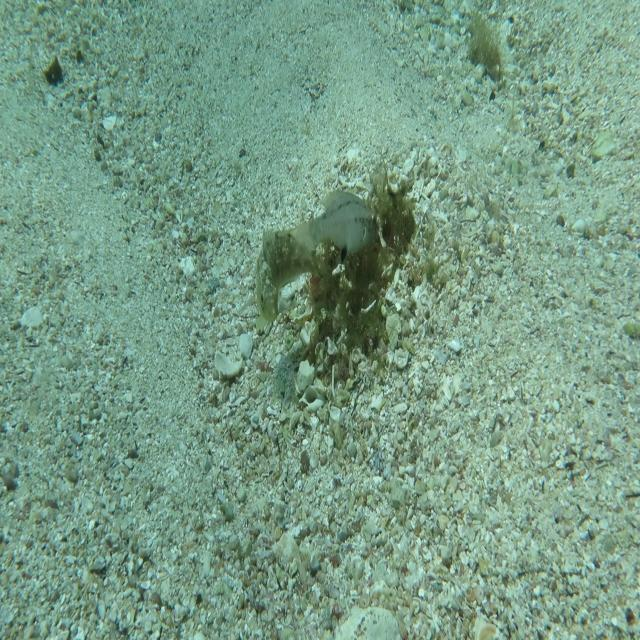DAN_CIRC: (255, 224, 330, 325)
female: (287, 189, 381, 260)
nest: (304, 150, 428, 371)
